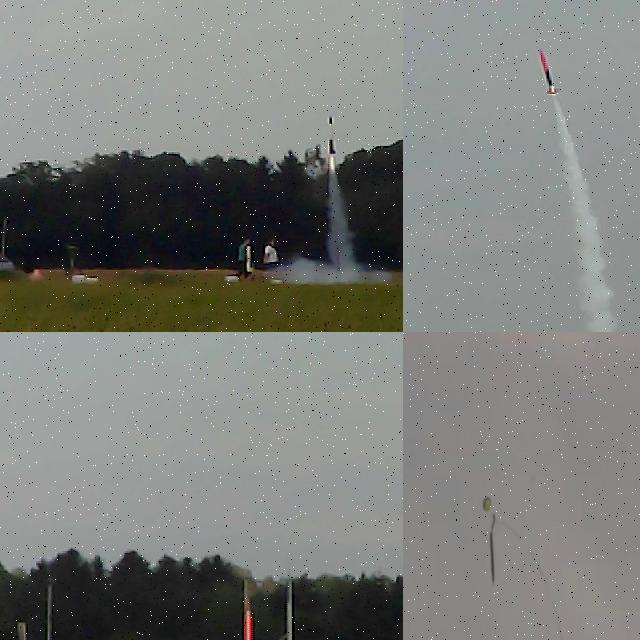Rocket: (538, 48, 560, 96), (239, 597, 257, 640), (327, 116, 337, 154)
